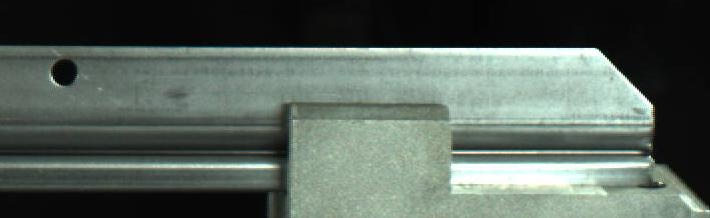cut: (496, 32, 667, 191)
holes: (45, 55, 82, 87)
